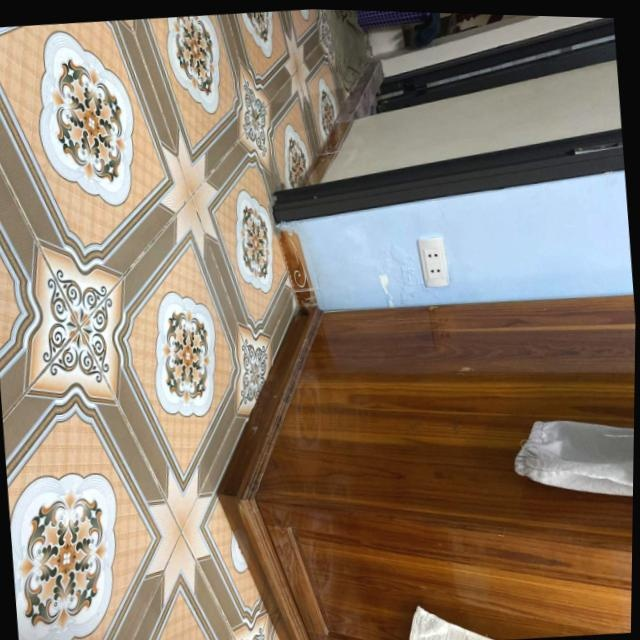outlet: (415, 235, 450, 288)
